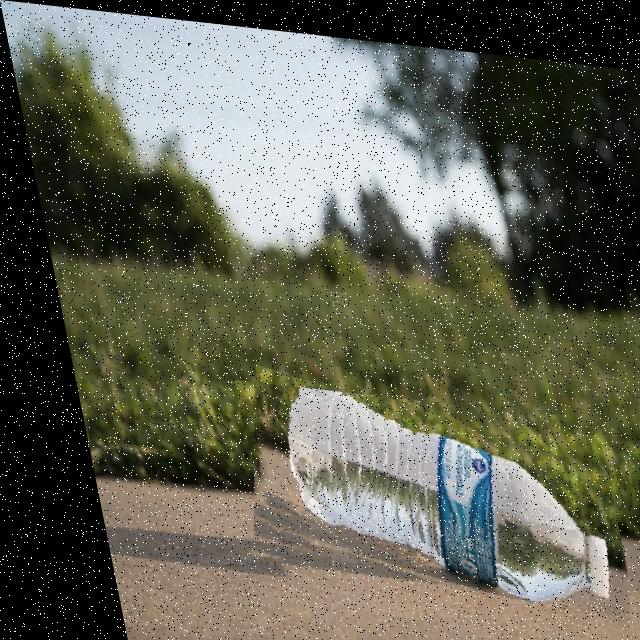plasticbottle: (214, 376, 616, 622)
plasticbottlecap: (542, 486, 592, 572)
